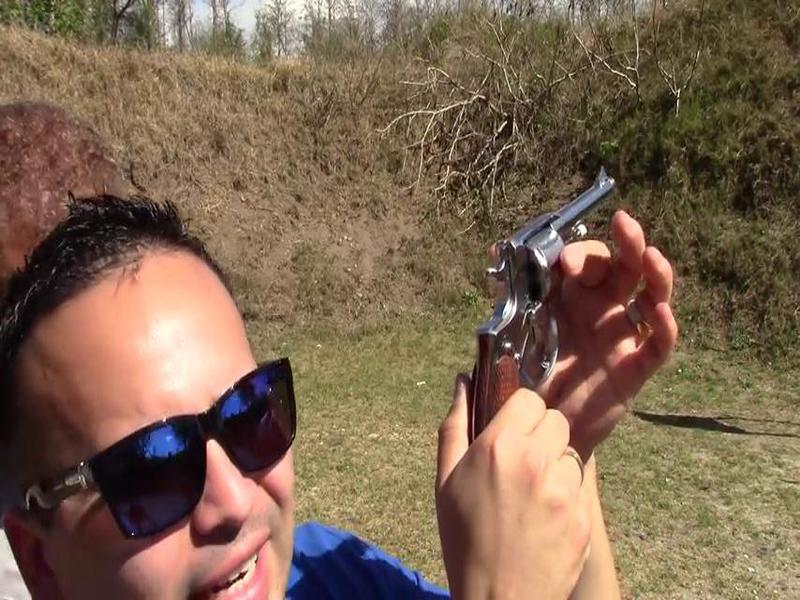Revolver: (473, 154, 635, 452)
